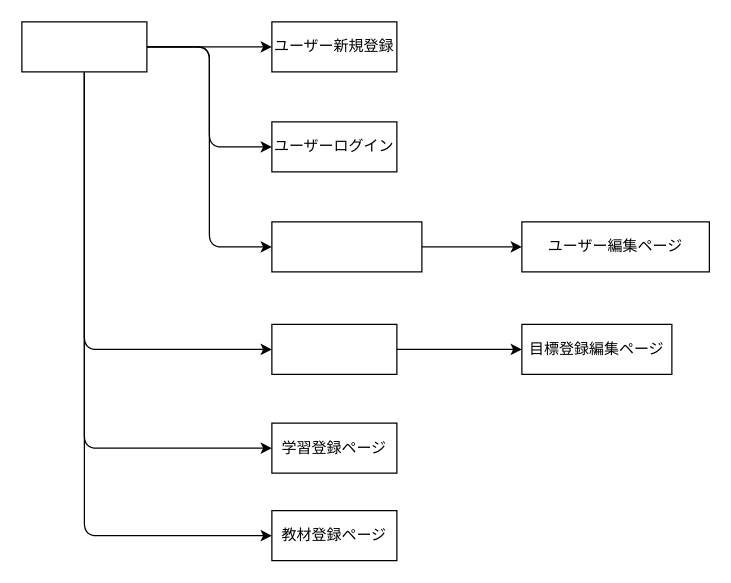
This 731x583 diagram has some shape labels left out. Each missing label, with the box of its shape:
トップページ: (21, 21, 147, 72)
ユーザーマイページ: (271, 221, 422, 272)
診断機能ページ: (271, 323, 397, 374)
